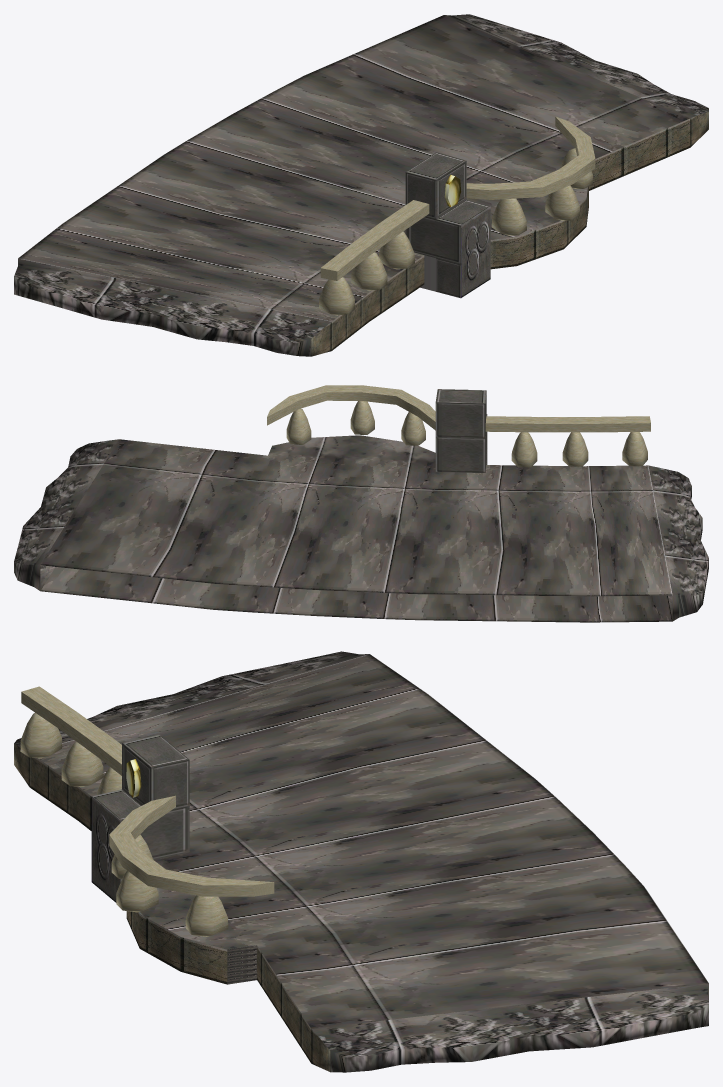
File: CH09_SMAUG_PLAYSURFACE_LAIR26.fbx
3 views of the same model, one above another, from view 1: azimuth 30°, elevation 25°; view 2: azimuth 150°, elevation 25°; view 3: azimuth 270°, elevation 25° (orthographic). The views are drawn at different scales.
Visible parts, largest first — view 1: CH09_SMAUG_PLAYSURFACE_LAIR26; view 2: CH09_SMAUG_PLAYSURFACE_LAIR26; view 3: CH09_SMAUG_PLAYSURFACE_LAIR26.
Boxes of the visible parts, left/top/right/bottom form: CH09_SMAUG_PLAYSURFACE_LAIR26: left=14, top=14, right=708, bottom=356; CH09_SMAUG_PLAYSURFACE_LAIR26: left=14, top=385, right=708, bottom=622; CH09_SMAUG_PLAYSURFACE_LAIR26: left=14, top=651, right=708, bottom=1072.
Size of the model in its own units: 151445 by 23218 by 110321.
Materials: 6 (6 with a texture image).
